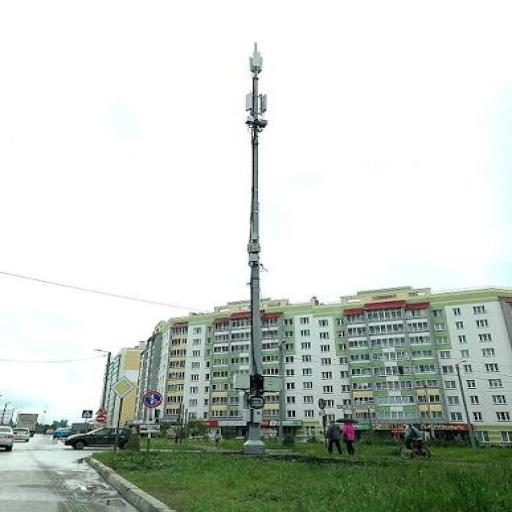odn_pole: (240, 42, 268, 452)
